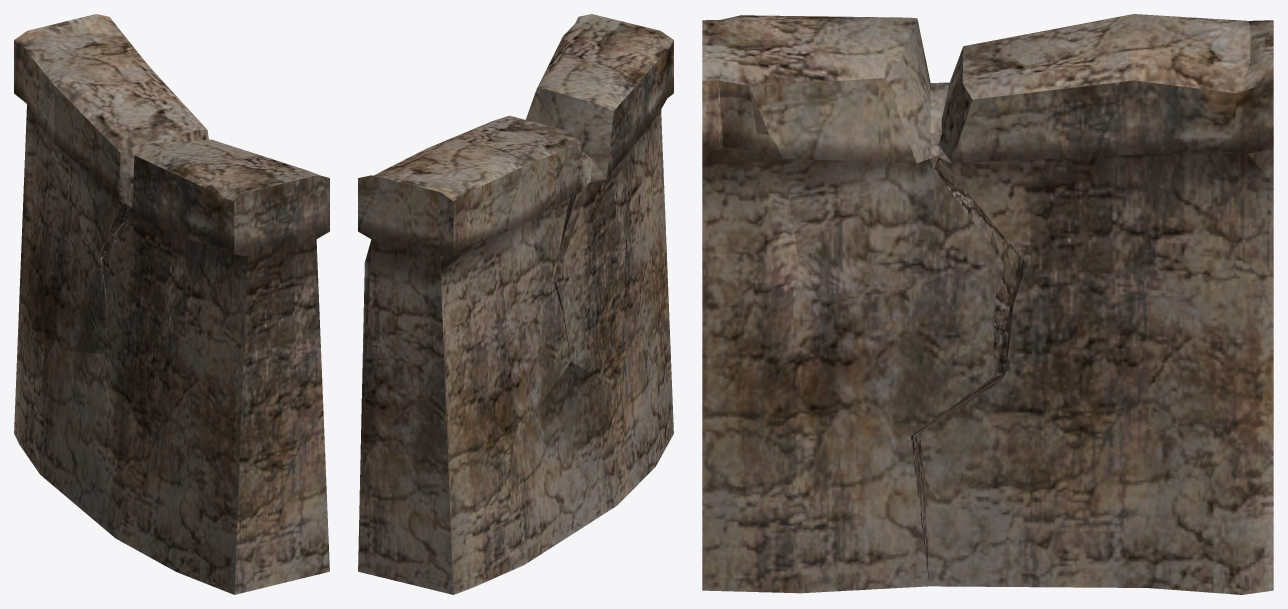
Rendered from MWalA2X.glb.
3 renders of one model, left to right at view 1: azimuth 30°, elevation 25°; view 2: azimuth 150°, elevation 25°; view 3: azimuth 270°, elevation 25°, orthographic. The views are drawn at different scales.
Parts seen in each view (by area): view 1: _MWalA2X; view 2: _MWalA2X; view 3: _MWalA2X.
Part boxes in pixels (<box>): _MWalA2X: <box>14,14,329,594</box>; _MWalA2X: <box>358,14,673,594</box>; _MWalA2X: <box>702,14,1273,594</box>.
Size of the model in its own units: 1.4 by 4 by 4.
Materials: 1 (1 with a texture image).
